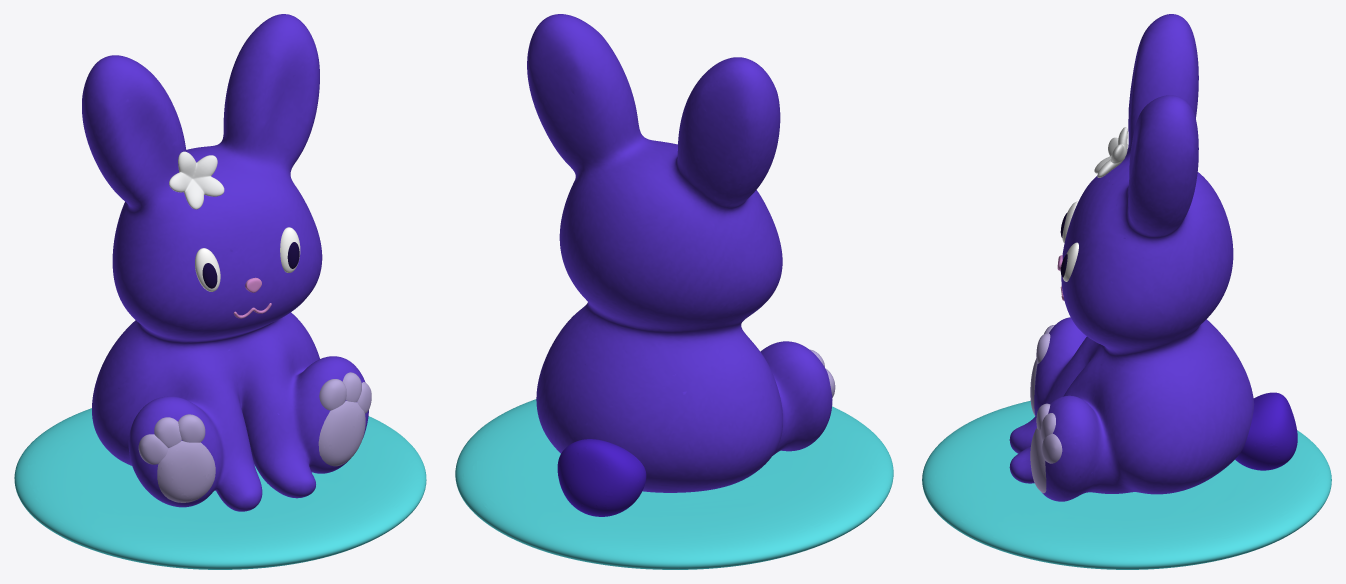
The model's file is bunny.glb.
The picture shows the model from 3 angles, left to right: view 1: azimuth 30°, elevation 25°; view 2: azimuth 150°, elevation 25°; view 3: azimuth 270°, elevation 25°; orthographic projection. The views are drawn at different scales.
Parts seen in each view (by area): view 1: Bunny, Cylinder, Feet 1, Feet 1.001, Flower, Feet 4.001, Feet 2, Feet 4, Feet 3, Quad Sphere.001, Quad Sphere.002; view 2: Bunny, Cylinder, Quad Sphere; view 3: Bunny, Cylinder, Quad Sphere, Flower, Feet 1.001.
Boxes of the visible parts, x1=… form: Bunny: x1=82, y1=14, x2=368, y2=511; Cylinder: x1=14, y1=408, x2=426, y2=569; Feet 1: x1=157, y1=441, x2=215, y2=502; Feet 1.001: x1=318, y1=401, x2=365, y2=466; Flower: x1=169, y1=151, x2=224, y2=209; Feet 4.001: x1=319, y1=379, x2=346, y2=410; Feet 2: x1=138, y1=434, x2=168, y2=464; Feet 4: x1=178, y1=414, x2=205, y2=442; Feet 3: x1=154, y1=417, x2=181, y2=447; Quad Sphere.001: x1=195, y1=248, x2=220, y2=291; Quad Sphere.002: x1=280, y1=227, x2=300, y2=272; Bunny: x1=527, y1=14, x2=832, y2=492; Cylinder: x1=455, y1=399, x2=893, y2=569; Quad Sphere: x1=557, y1=439, x2=646, y2=516; Bunny: x1=1009, y1=14, x2=1254, y2=501; Cylinder: x1=922, y1=400, x2=1331, y2=569; Quad Sphere: x1=1235, y1=392, x2=1297, y2=470; Flower: x1=1094, y1=127, x2=1127, y2=177; Feet 1.001: x1=1030, y1=428, x2=1046, y2=493.
Bounding box in the file's own units: 0.2558 × 0.3 × 0.2561.
